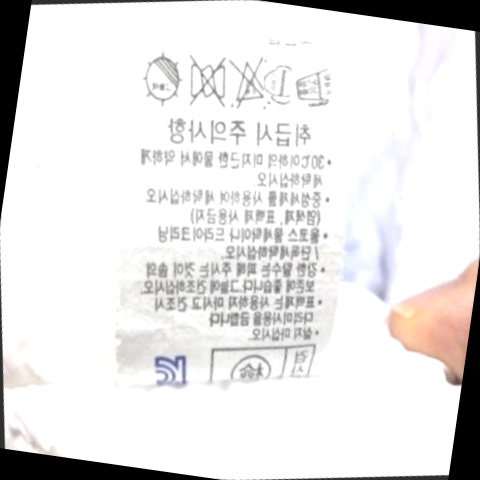DN_wring: (173, 45, 238, 115)
dry_clean: (257, 58, 303, 106)
hand_wash: (283, 53, 346, 115)
non_chlorine_bleach: (220, 47, 277, 113)
shade_dry: (126, 41, 196, 118)
